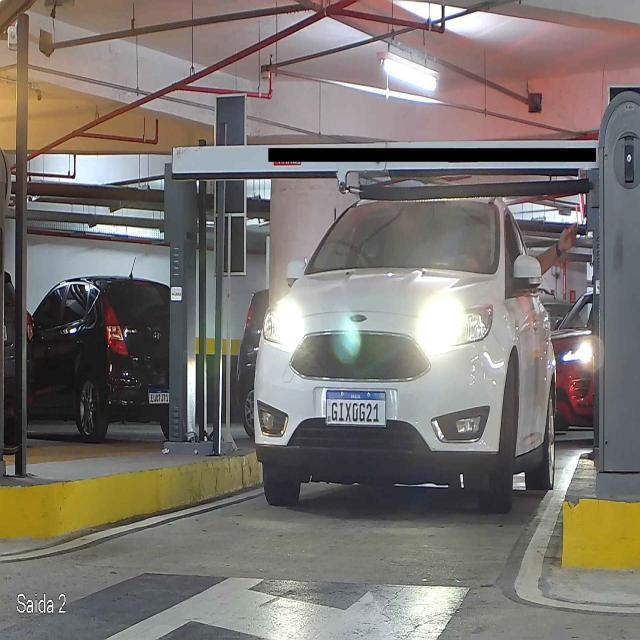mercosul_plate: (323, 389, 390, 430)
